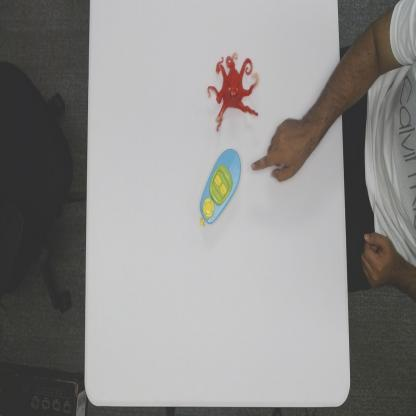Boat: (198, 147, 242, 228)
Hand: (250, 117, 313, 185)
Octopus: (207, 51, 260, 134)
